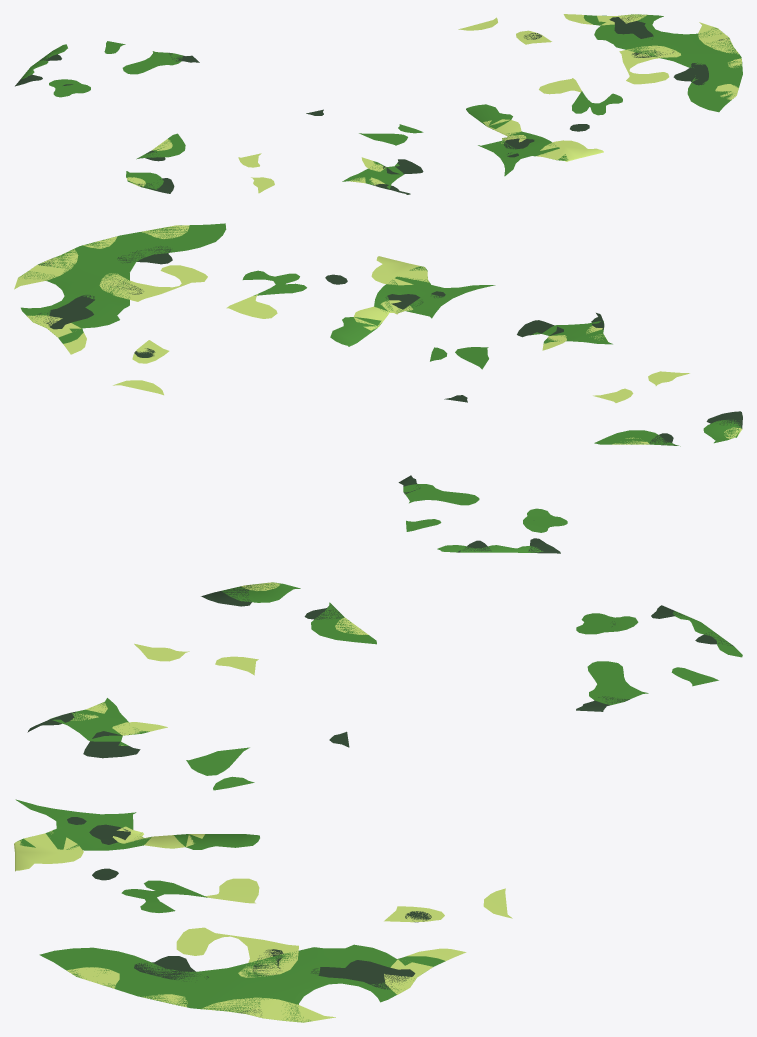
The model's file is grassPatches.fbx.
3 renders of one model, top to bottom at view 1: azimuth 30°, elevation 25°; view 2: azimuth 150°, elevation 25°; view 3: azimuth 270°, elevation 25°, orthographic. The views are drawn at different scales.
Parts seen in each view (by area): view 1: grassPatch_2, grassPatch_1, grassPatch_3; view 2: grassPatch_2, grassPatch_1, grassPatch_3; view 3: grassPatch_2, grassPatch_1, grassPatch_3.
Part boxes in pixels (<box>): grassPatch_2: <box>21,14,742,190</box>; grassPatch_1: <box>126,14,741,193</box>; grassPatch_3: <box>15,16,727,194</box>; grassPatch_2: <box>21,223,741,553</box>; grassPatch_1: <box>14,225,741,444</box>; grassPatch_3: <box>35,246,742,553</box>; grassPatch_2: <box>15,582,742,1022</box>; grassPatch_1: <box>14,582,512,1022</box>; grassPatch_3: <box>27,585,733,1015</box>.
Size of the model in its own units: 9363 by 6602 by 112.
